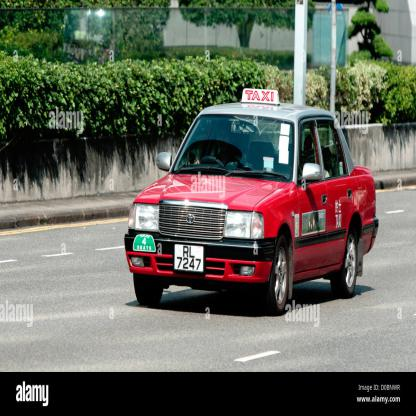taxi: (123, 68, 381, 326)
